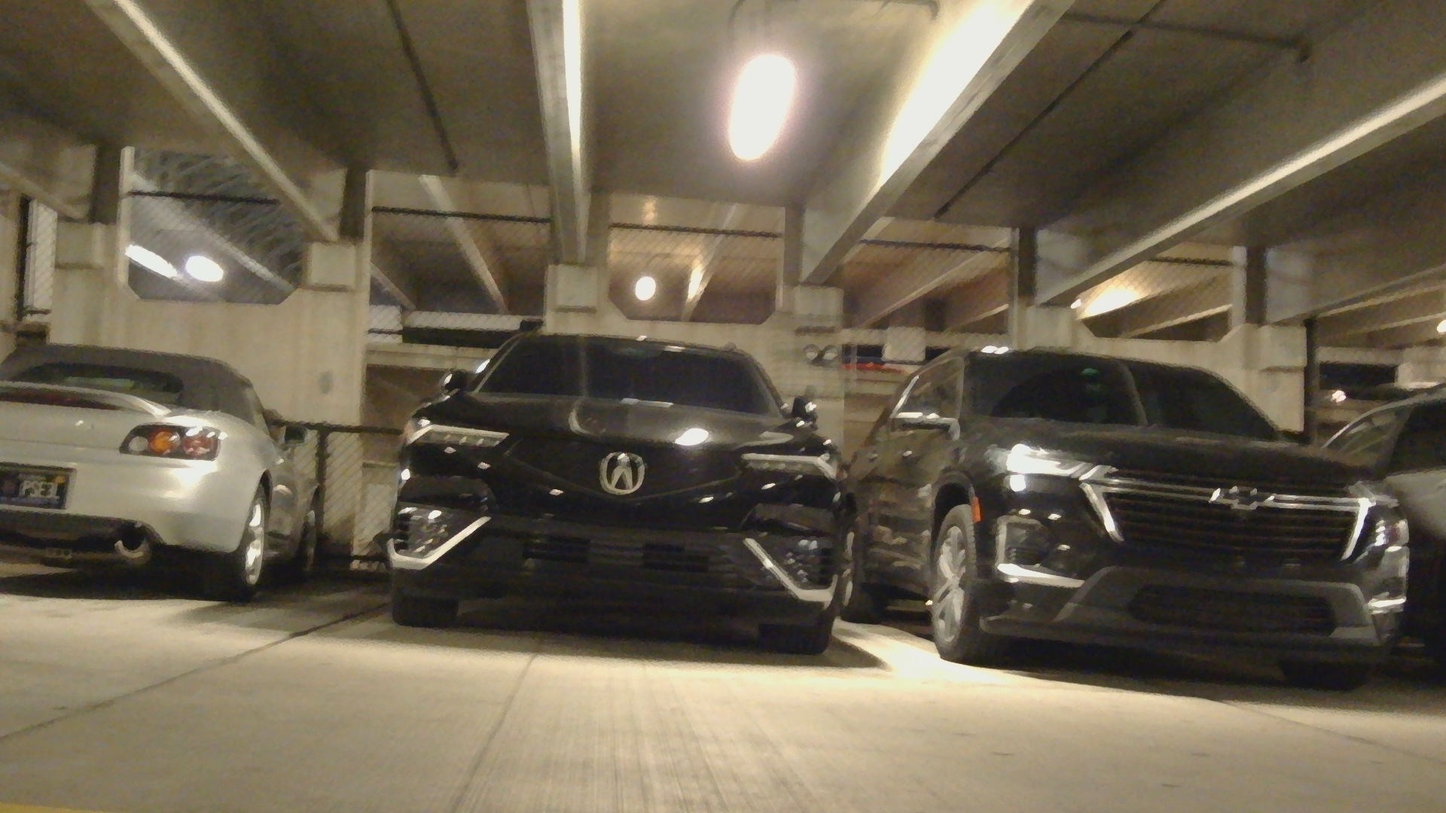occupied_spot: (831, 331, 1426, 688), (364, 313, 871, 663), (0, 312, 356, 630)
